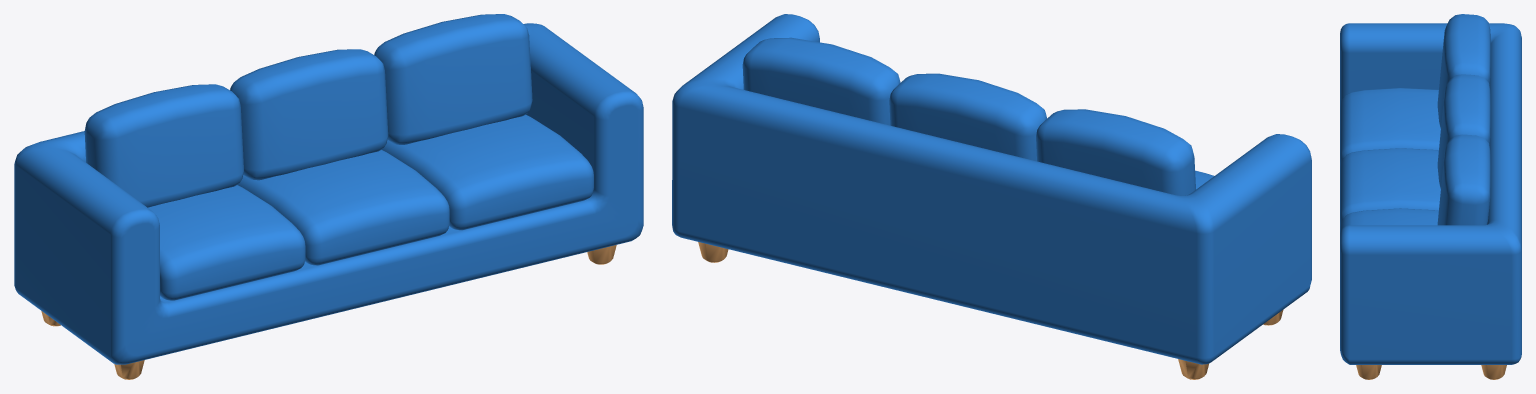
Rendered from sofa_tres_lugares_azul_pacote.glb.
3 views of the same model, side by side, from view 1: azimuth 30°, elevation 25°; view 2: azimuth 150°, elevation 25°; view 3: azimuth 270°, elevation 25° (orthographic). The views are drawn at different scales.
Parts seen in each view (by area): view 1: sofa_tres_lugares_azul_pacote; view 2: sofa_tres_lugares_azul_pacote; view 3: sofa_tres_lugares_azul_pacote.
Boxes of the visible parts, bbox=[...] form: sofa_tres_lugares_azul_pacote: bbox=[14, 14, 643, 379]; sofa_tres_lugares_azul_pacote: bbox=[672, 14, 1311, 379]; sofa_tres_lugares_azul_pacote: bbox=[1340, 14, 1521, 379].
Bounding box in the file's own units: 2.21 × 0.8621 × 0.765.
1 material, 1 textured.
